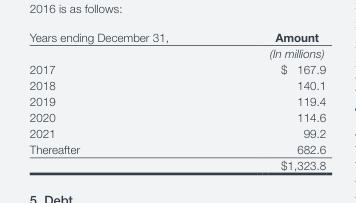table: (28, 29, 325, 171)
table column: (28, 29, 218, 171), (218, 29, 325, 171)
table column header: (28, 29, 325, 60)
table row: (28, 29, 325, 60), (28, 60, 325, 76), (28, 76, 325, 92), (28, 92, 325, 108), (28, 108, 325, 124), (28, 124, 325, 140), (28, 140, 325, 156), (28, 156, 325, 171)
